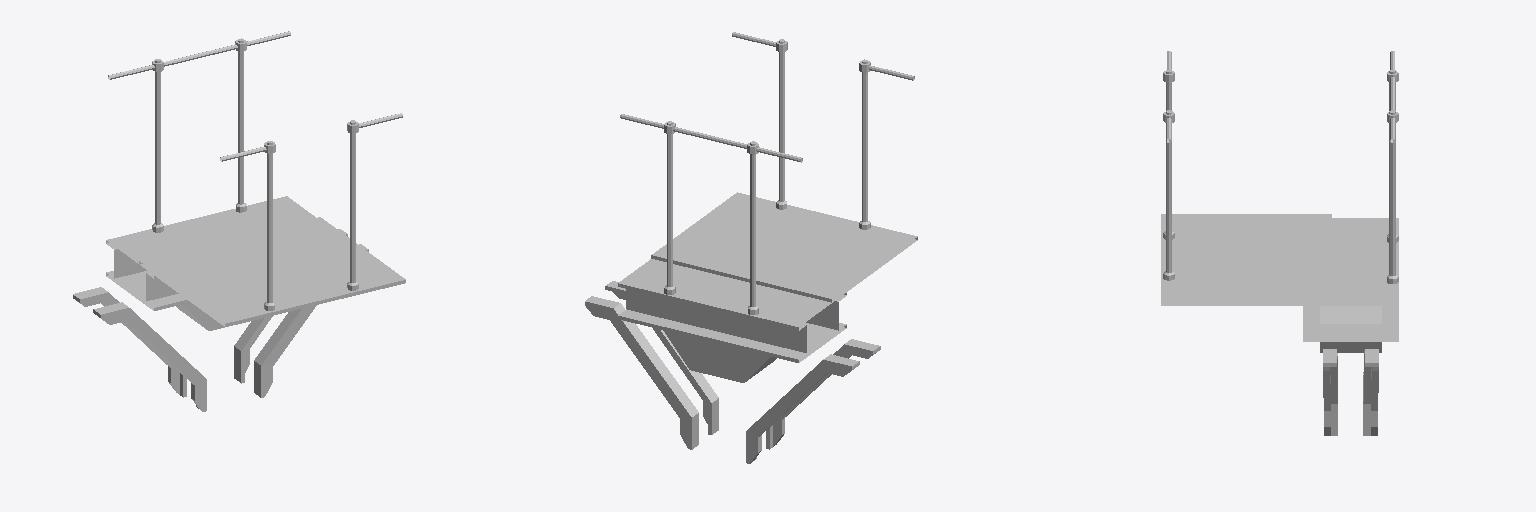
The model's file is lms_signal_gantry_platform_centre.obj.
The picture shows the model from 3 angles: view 1: azimuth 30°, elevation 25°; view 2: azimuth 150°, elevation 25°; view 3: azimuth 270°, elevation 25°; orthographic projection.
Visible parts, largest first — view 1: platform_centre_Cube.035; view 2: platform_centre_Cube.035; view 3: platform_centre_Cube.035.
Part boxes in pixels (bbox=[...]): platform_centre_Cube.035: bbox=[73, 31, 405, 411]; platform_centre_Cube.035: bbox=[585, 32, 917, 463]; platform_centre_Cube.035: bbox=[1161, 51, 1398, 435].
Bounding box in the file's own units: 1.48 × 1.74 × 1.14.